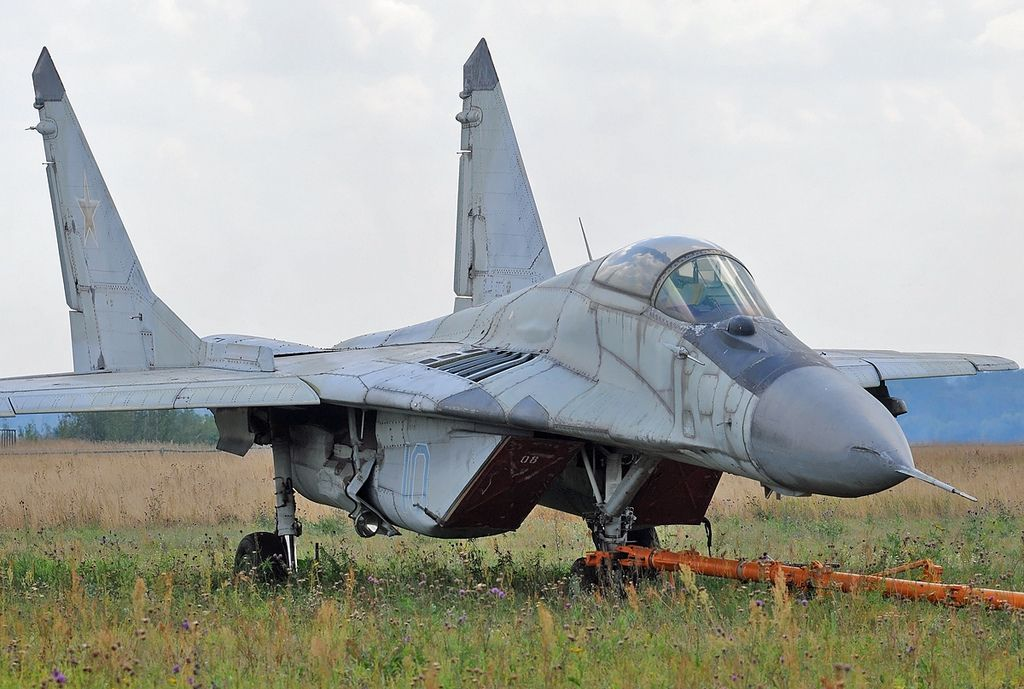Mig-29: (17, 31, 1024, 602)
